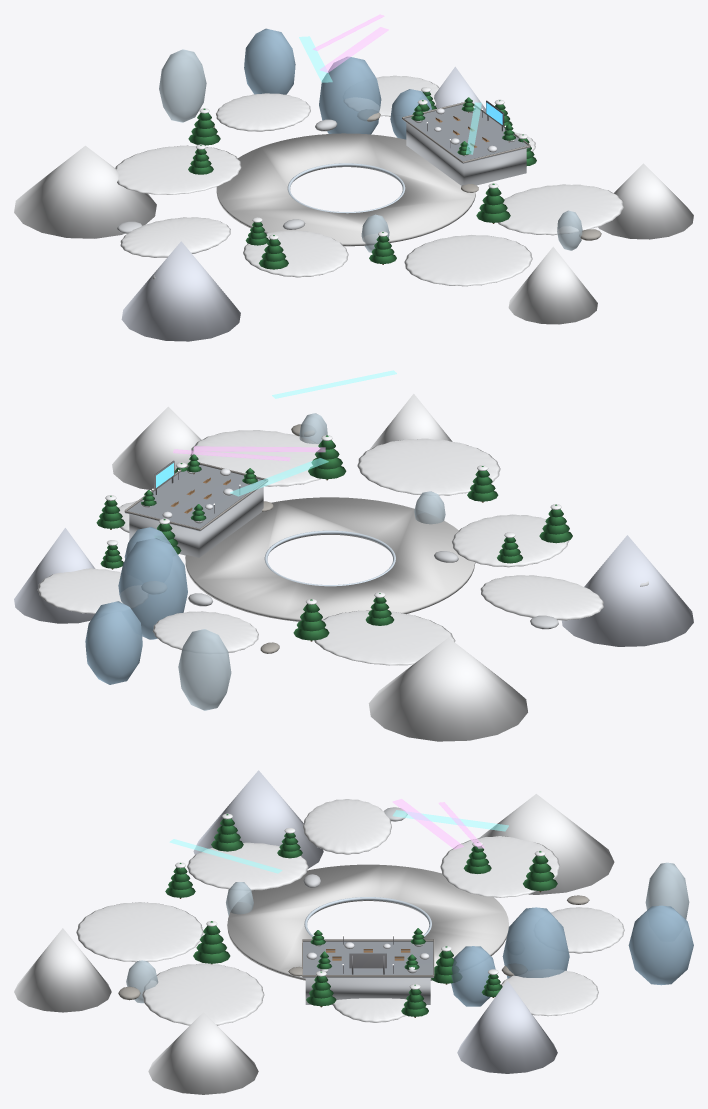
File: Environment_Arctic.glb
3 renders of one model, top to bottom at view 1: azimuth 30°, elevation 25°; view 2: azimuth 150°, elevation 25°; view 3: azimuth 270°, elevation 25°, orthographic. The views are drawn at different scales.
Visible parts, largest first — view 1: IceShallow, Mountain_2, Mountain_1, SnowIsland_6, SnowIsland_7, SnowIsland_3, Mountain_4, Mountain_0, Iceberg_3, SpecFloor, SnowIsland_4, SnowIsland_5 (+12 smaller); view 2: IceShallow, Mountain_2, Mountain_1, SnowIsland_6, SnowIsland_3, SnowIsland_7, Iceberg_3, SnowIsland_4, SpecFloor, SnowIsland_5, Iceberg_5, Mountain_0 (+12 smaller); view 3: IceShallow, SnowIsland_6, SnowIsland_7, Mountain_0, Mountain_3, Mountain_2, Mountain_4, SnowIsland_3, Mountain_1, SnowIsland_5, Iceberg_5, SnowIsland_4 (+15 smaller).
Boxes of the visible parts, x1,y1,x2,y2 form: IceShallow: (216,133,475,246); Mountain_2: (14,145,156,238); Mountain_1: (121,241,240,341); SnowIsland_6: (404,235,532,286); SnowIsland_7: (498,184,623,235); SnowIsland_3: (115,145,241,194); Mountain_4: (508,246,597,324); Mountain_0: (598,163,693,239); Iceberg_3: (319,56,381,134); SpecFloor: (402,104,530,163); SnowIsland_4: (120,217,230,257); SnowIsland_5: (243,230,348,277); IceShallow: (185,497,475,621); Mountain_2: (368,637,527,741); Mountain_1: (561,535,693,646); SnowIsland_6: (357,438,500,495); SnowIsland_3: (314,610,455,665); SnowIsland_7: (190,430,320,486); Iceberg_3: (118,538,187,639); SnowIsland_4: (480,575,603,620); SpecFloor: (125,465,267,531); SnowIsland_5: (452,514,569,567); Iceberg_5: (85,601,142,684); Mountain_0: (112,406,201,490); IceShallow: (227,864,508,980); SnowIsland_6: (76,902,203,962); SnowIsland_7: (142,963,264,1025); Mountain_0: (148,1012,258,1094); Mountain_3: (457,980,557,1073); Mountain_2: (479,794,614,894); Mountain_4: (14,928,111,1012); SnowIsland_3: (440,836,559,897); Mountain_1: (193,770,323,868); SnowIsland_5: (187,842,308,890); Iceberg_5: (628,905,693,985); SnowIsland_4: (303,799,391,854).
Size of what is drawn, in the model's own units: 213 by 58.12 by 217.
